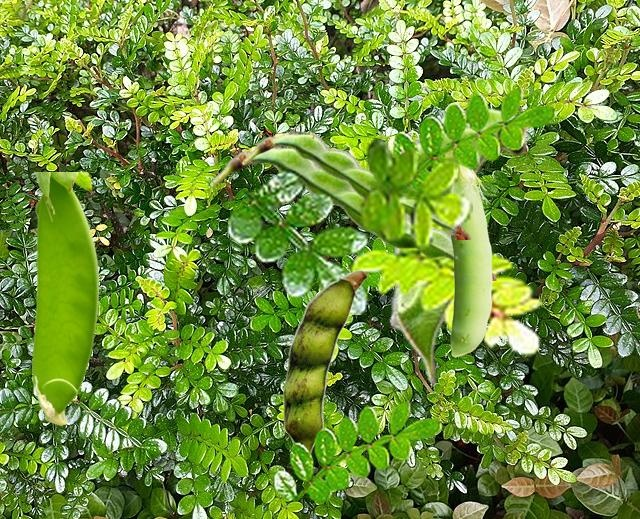pea: (388, 107, 531, 385), (210, 144, 496, 279), (242, 131, 470, 238), (32, 172, 97, 424), (283, 269, 367, 452), (446, 152, 491, 356)
